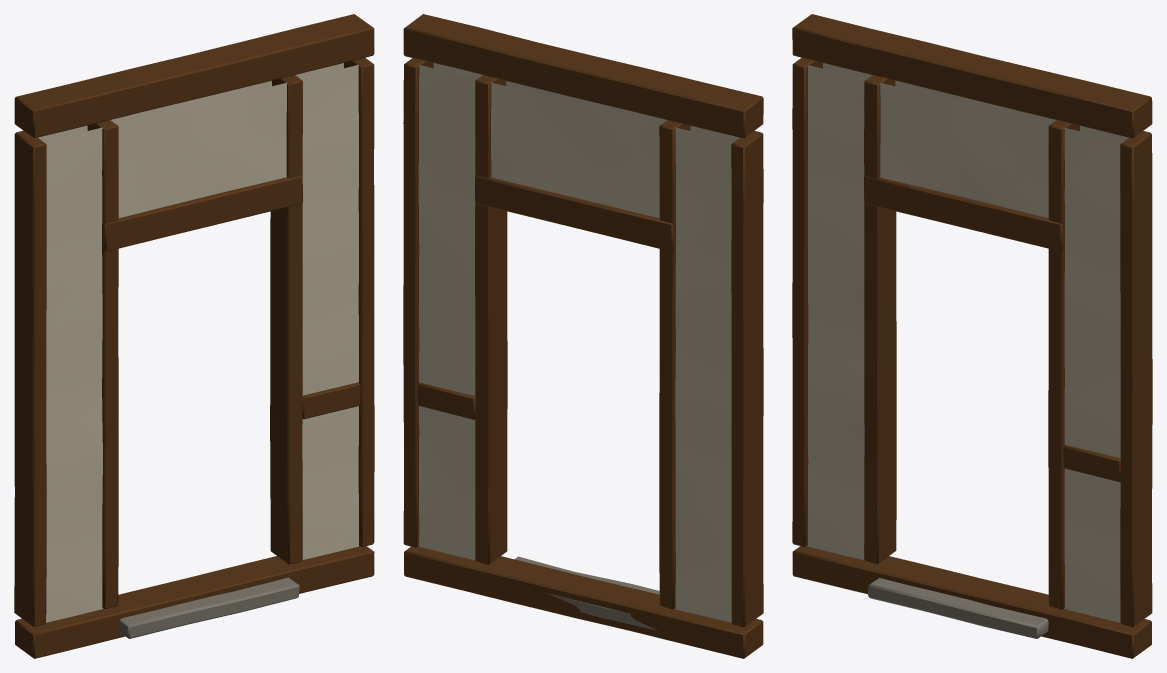
File: wand_tuer.glb
The picture shows the model from 3 angles, left to right: view 1: azimuth 30°, elevation 25°; view 2: azimuth 150°, elevation 25°; view 3: azimuth 330°, elevation 25°; orthographic projection.
Parts seen in each view (by area): view 1: wand_tuer; view 2: wand_tuer; view 3: wand_tuer.
Boxes of the visible parts, left/top/right/bottom form: wand_tuer: left=14, top=14, right=374, bottom=658; wand_tuer: left=403, top=14, right=763, bottom=658; wand_tuer: left=792, top=14, right=1152, bottom=658.
Size of the model in its own units: 2 by 3.08 by 0.3078.
